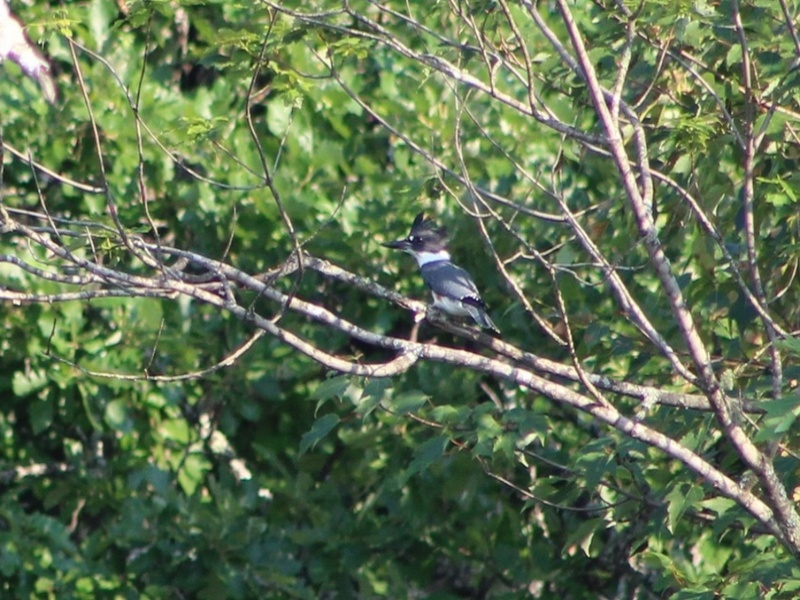kingfisher: (379, 214, 502, 337)
